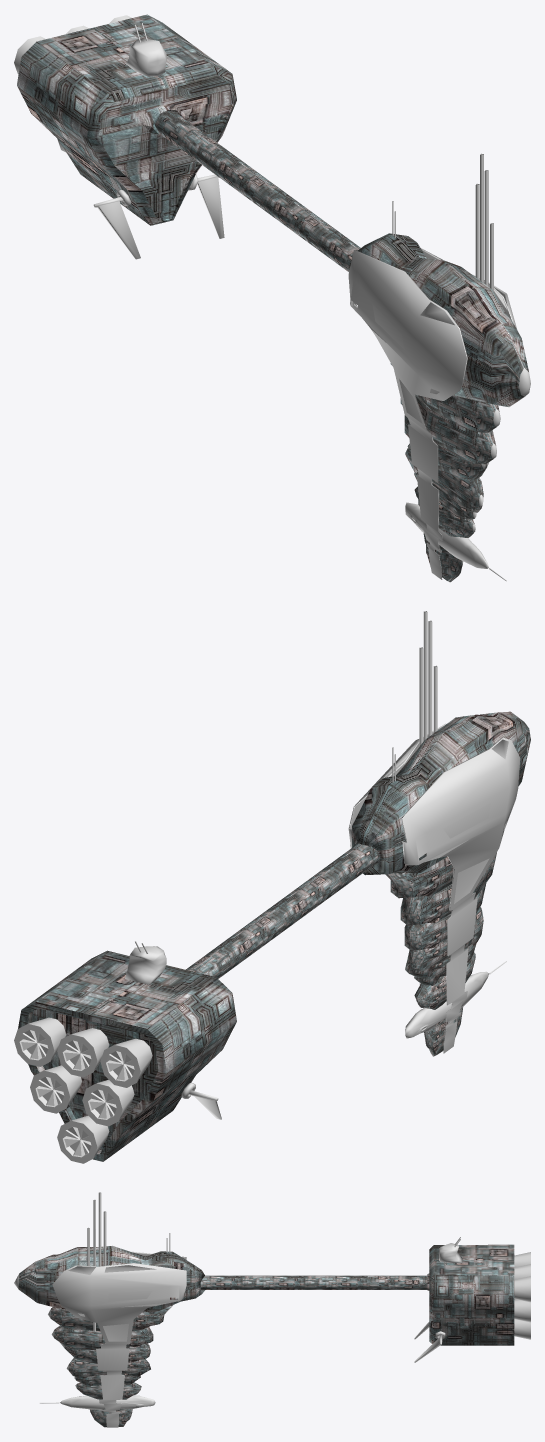
Rendered from NebulonB.fbx.
The picture shows the model from 3 angles, top to bottom: view 1: azimuth 30°, elevation 25°; view 2: azimuth 150°, elevation 25°; view 3: azimuth 270°, elevation 25°; orthographic projection. The views are drawn at different scales.
Visible parts, largest first — view 1: polySurface163; view 2: polySurface163; view 3: polySurface163.
Part boxes in pixels (x1,y1,x2,y2): polySurface163: (14,14,530,582); polySurface163: (14,611,530,1163); polySurface163: (14,1192,530,1427).
Size of the model in its own units: 49.44 by 133 by 258.
Materials: 2 (1 with a texture image).
